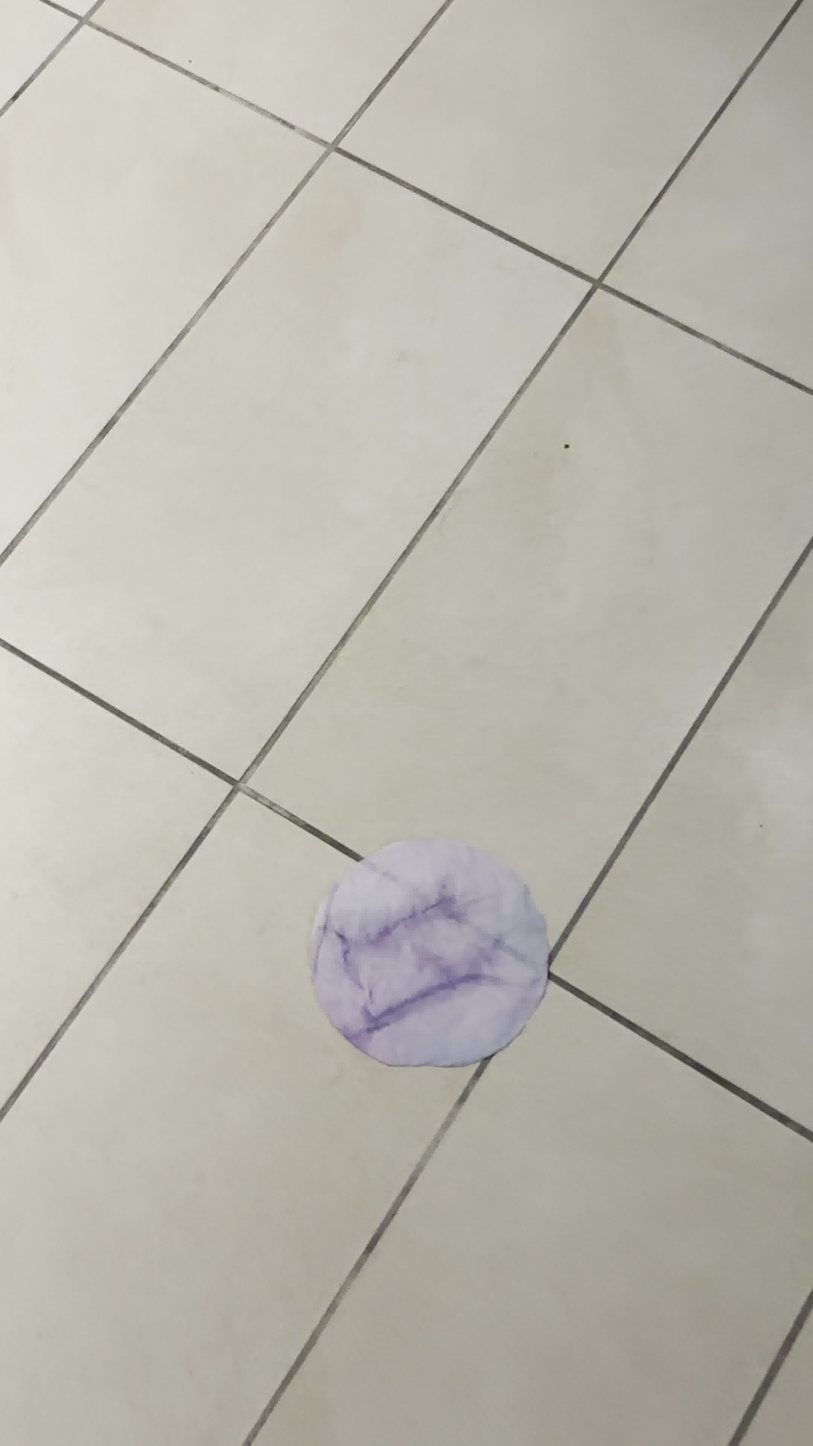Target: (312, 844, 548, 1067)
